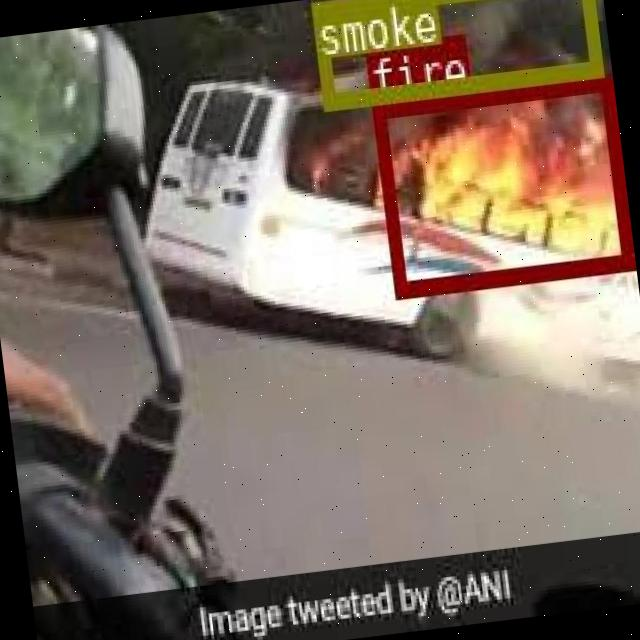fire: (370, 73, 630, 293)
smoke: (311, 0, 601, 106)
